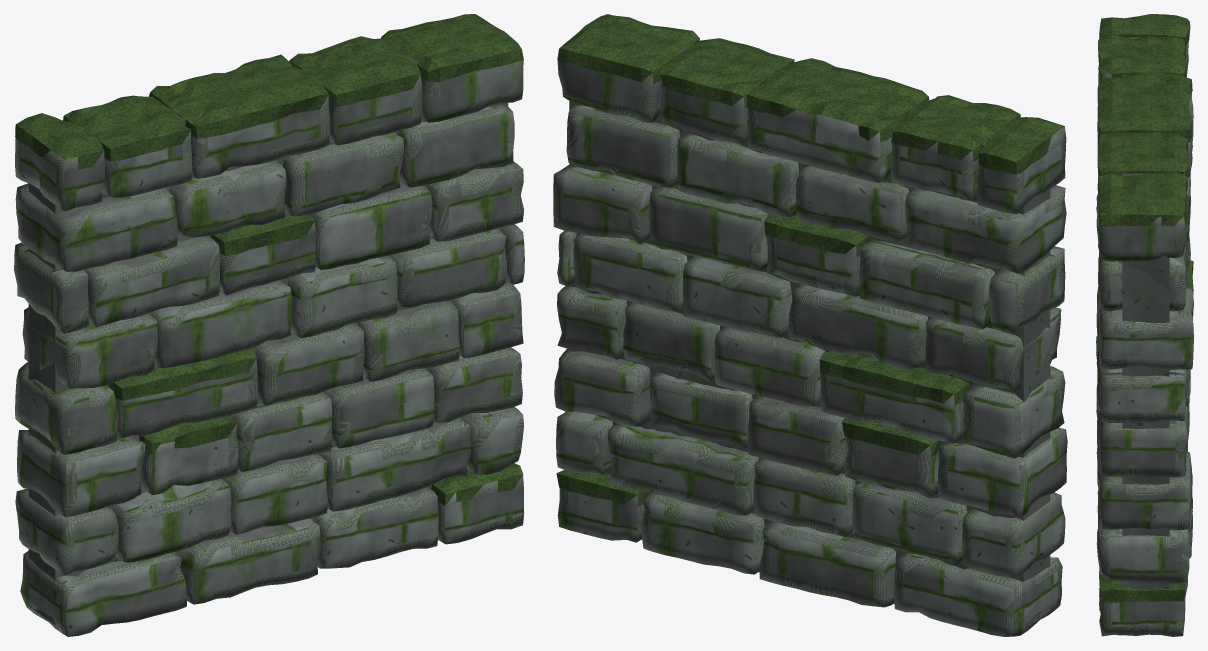
Rendered from mod_wall_4m.glb.
The picture shows the model from 3 angles, left to right: view 1: azimuth 30°, elevation 25°; view 2: azimuth 150°, elevation 25°; view 3: azimuth 270°, elevation 25°; orthographic projection. The views are drawn at different scales.
Parts seen in each view (by area): view 1: mod_wall_4m__stone_wall, mod_wall_4m__moss, mod_wall_4m__stone_dark; view 2: mod_wall_4m__stone_wall, mod_wall_4m__moss, mod_wall_4m__stone_dark; view 3: mod_wall_4m__stone_wall, mod_wall_4m__moss, mod_wall_4m__stone_dark.
Part boxes in pixels (box(x1,y1,x2,y2)): mod_wall_4m__stone_wall: box(14, 60, 524, 636); mod_wall_4m__moss: box(15, 14, 523, 505); mod_wall_4m__stone_dark: box(28, 55, 508, 625); mod_wall_4m__stone_wall: box(553, 60, 1067, 636); mod_wall_4m__moss: box(556, 14, 1064, 506); mod_wall_4m__stone_dark: box(569, 46, 1050, 629); mod_wall_4m__stone_wall: box(1096, 42, 1193, 636); mod_wall_4m__moss: box(1096, 14, 1193, 602); mod_wall_4m__stone_dark: box(1122, 36, 1169, 589).
Bounding box in the file's own units: 4 × 4.02 × 0.8279.
Materials: 3 (3 with a texture image).
